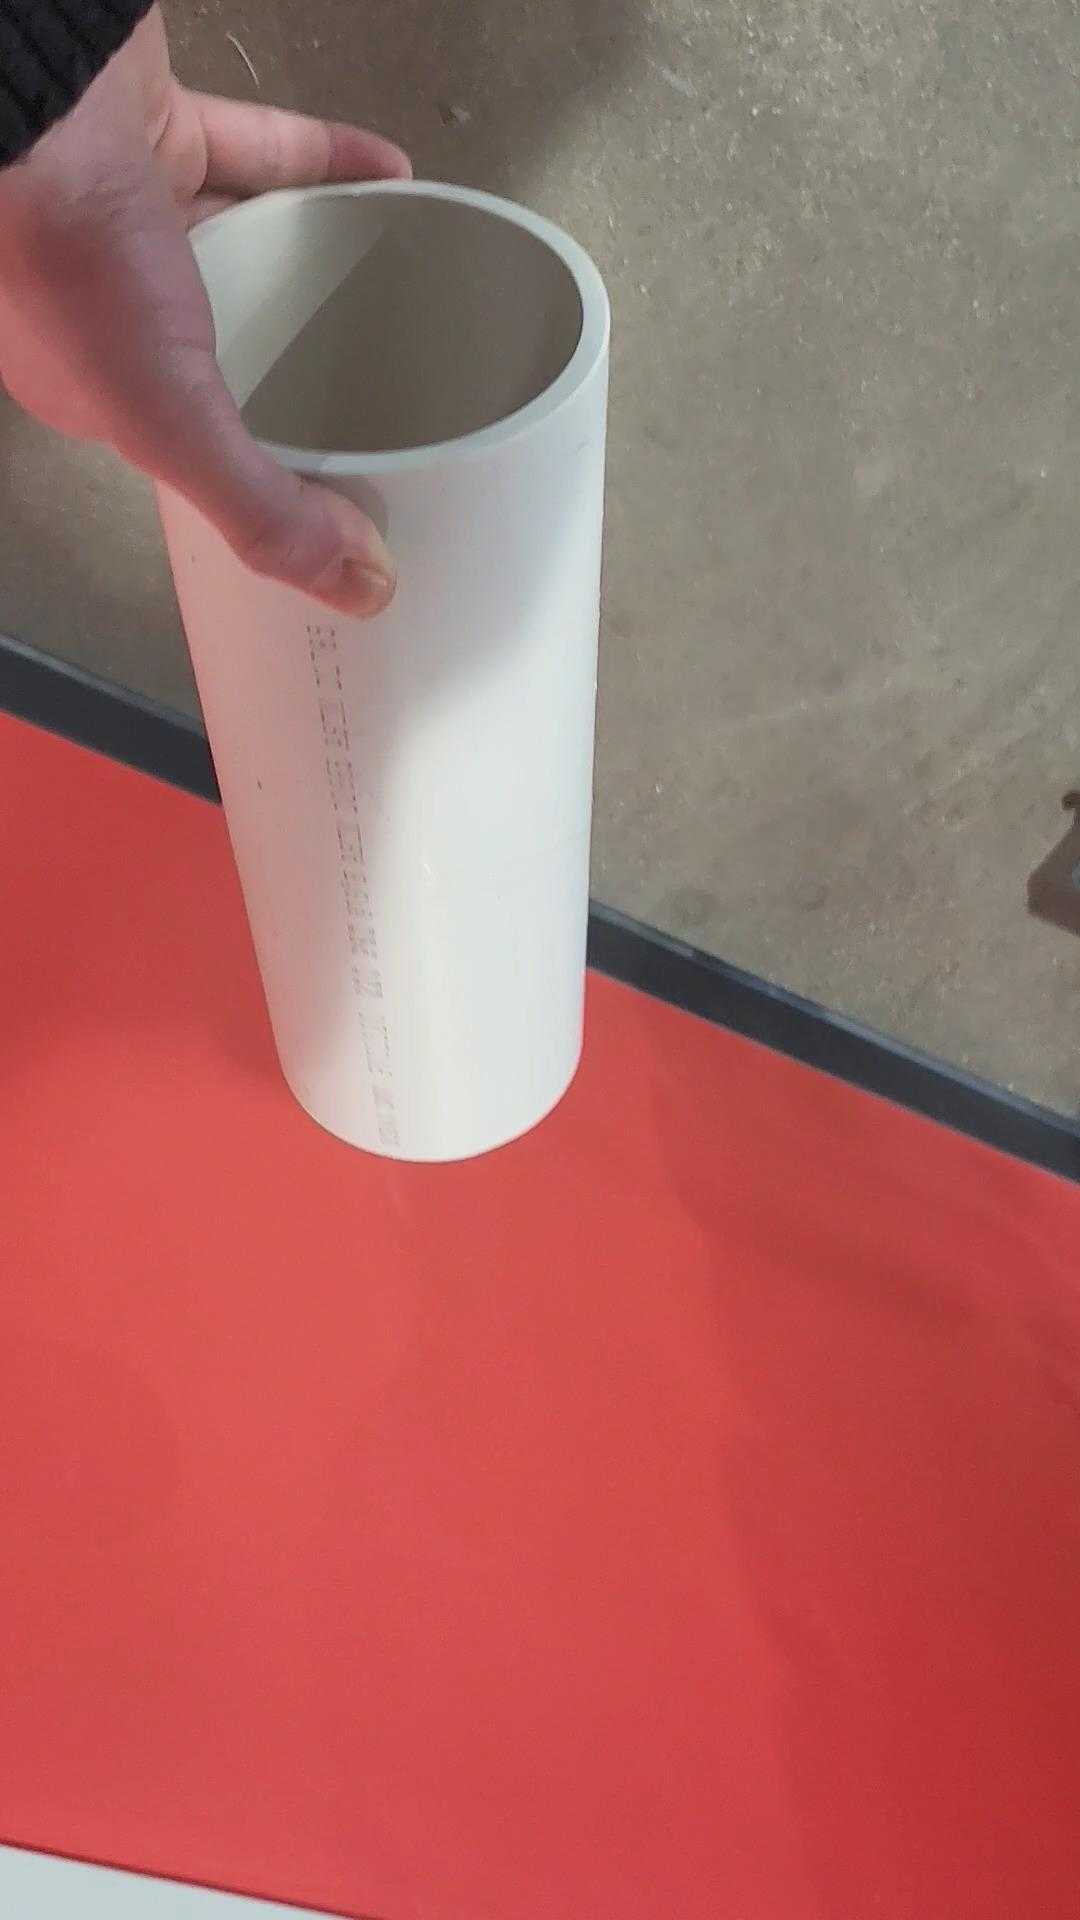coral: (125, 175, 588, 1158)
